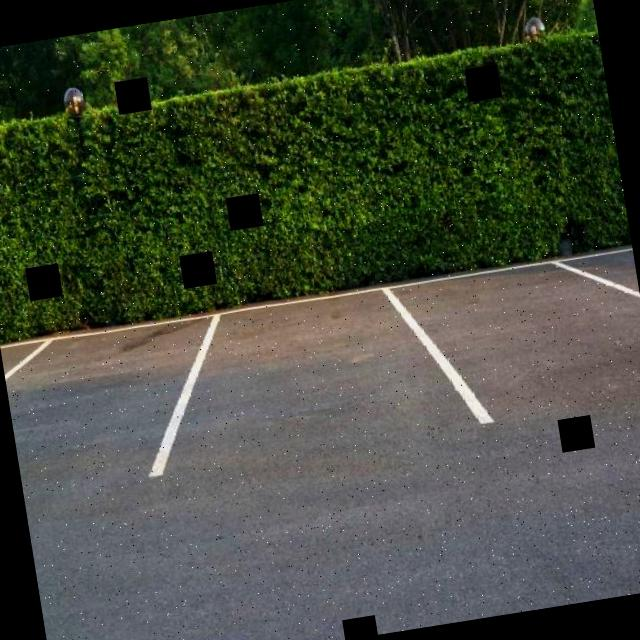free: (116, 268, 510, 489), (377, 235, 640, 460), (3, 308, 255, 512)
